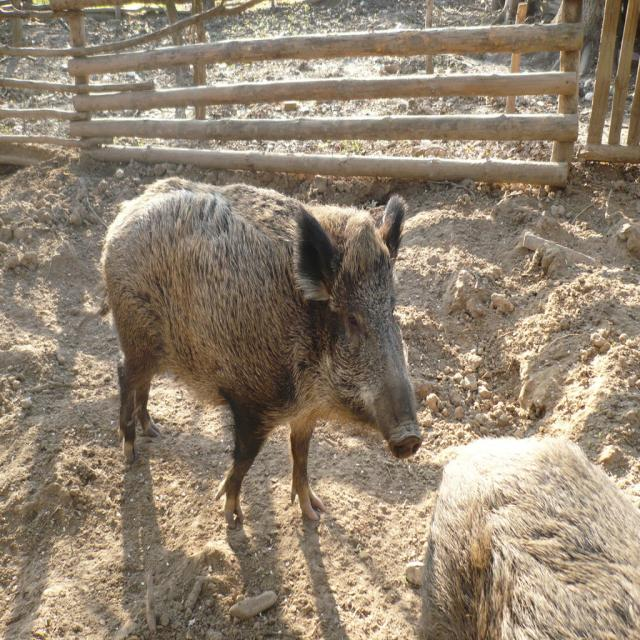Pig: (97, 174, 424, 531), (410, 432, 640, 638)
